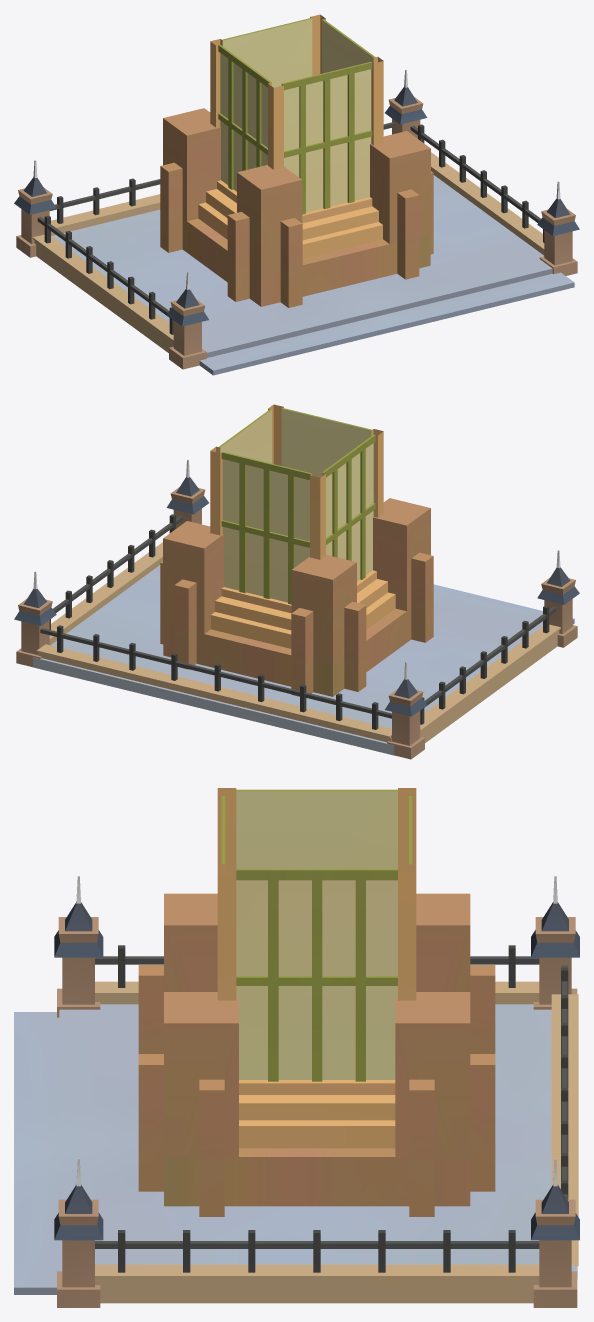
File: chan_bigben.fbx
The picture shows the model from 3 angles, top to bottom: view 1: azimuth 30°, elevation 25°; view 2: azimuth 150°, elevation 25°; view 3: azimuth 270°, elevation 25°; orthographic projection. The views are drawn at different scales.
Parts seen in each view (by area): view 1: chan_Bigben; view 2: chan_Bigben; view 3: chan_Bigben.
Part boxes in pixels (bbox=[...]): chan_Bigben: bbox=[14, 14, 579, 375]; chan_Bigben: bbox=[14, 404, 579, 759]; chan_Bigben: bbox=[14, 788, 579, 1307].
Bounding box in the file's own units: 1346 × 677 × 1061.
